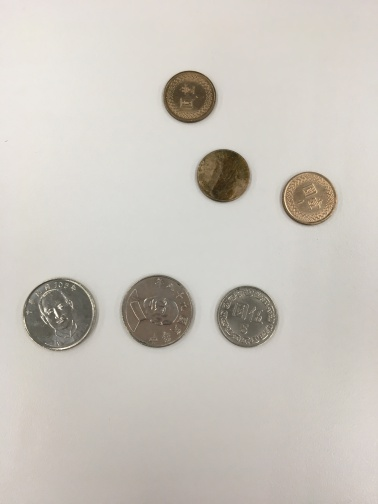1 dollar: (272, 165, 343, 233), (155, 67, 229, 131), (190, 146, 256, 206)
10 dollar: (13, 269, 104, 362), (116, 265, 204, 356)
5 dollar: (209, 278, 286, 353)
